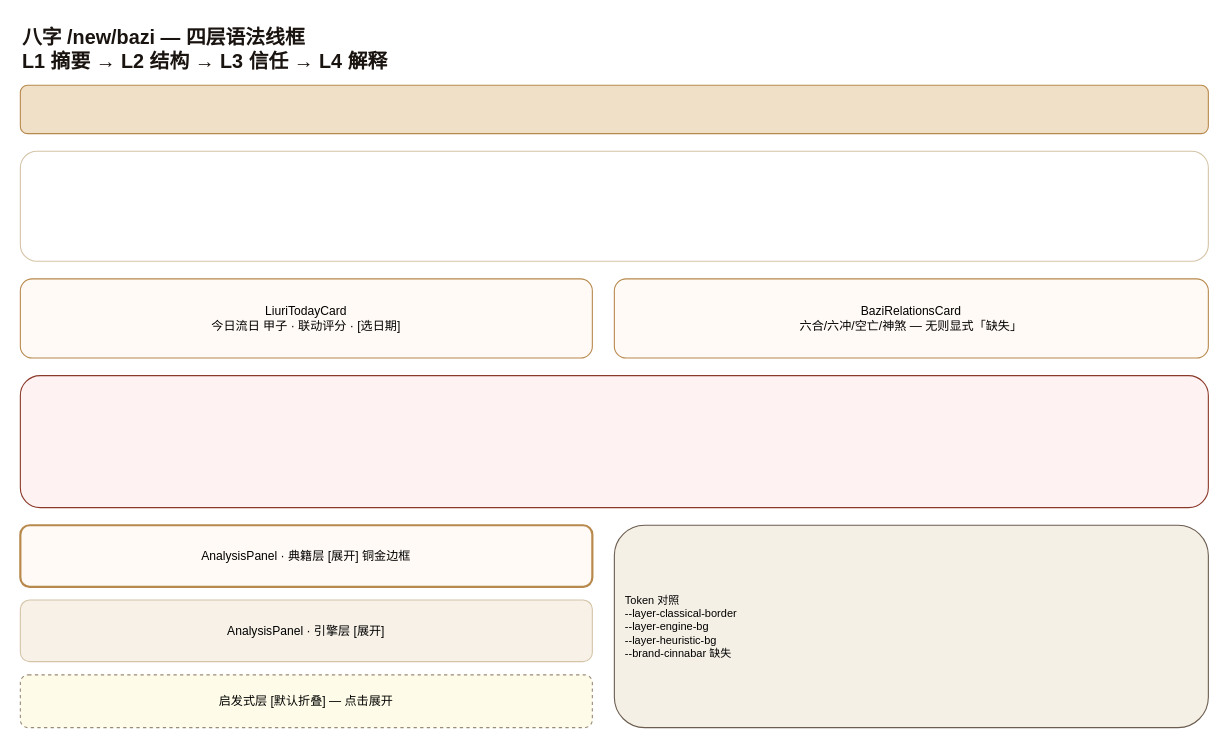
Image size: 1228x747. Some labels were removed from this diagram. Each missing label, with the box of its shape:
L1 SummaryStrip：日主 | 强弱 | 格局 | 用神 | 流年: (19, 84, 1208, 134)
L2 BaziReferenceTable（六柱 · 默认展开）: (19, 150, 1208, 261)
L3 EngineTrustPanel（compact） missing_fields 红色警示 | provenance 表 | 双轨 ZIP09/21/22: (19, 375, 1208, 508)
